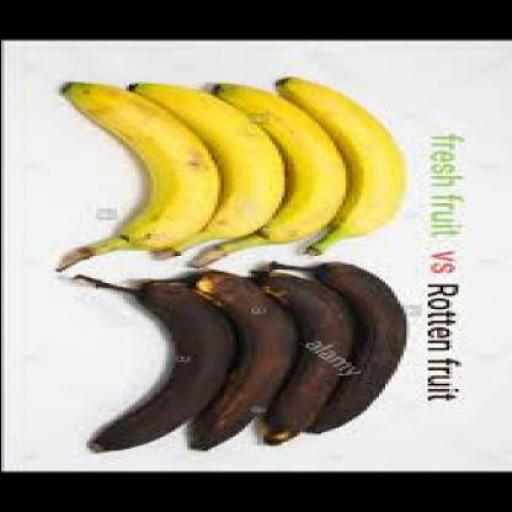biodegradable: (56, 80, 226, 270), (73, 274, 241, 450), (195, 82, 354, 266), (131, 82, 290, 258), (274, 75, 408, 255), (274, 260, 412, 432), (192, 268, 302, 450), (253, 270, 362, 444)
